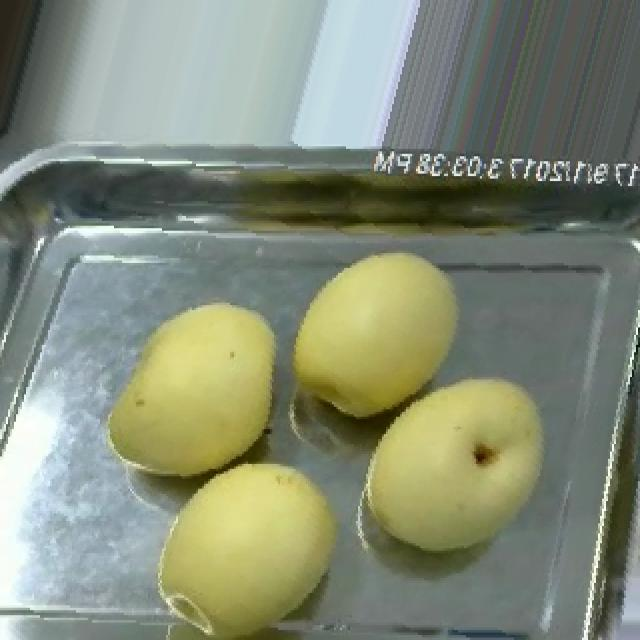Fruit: (350, 357, 566, 571), (92, 277, 296, 493), (136, 439, 354, 640), (278, 230, 478, 432)
